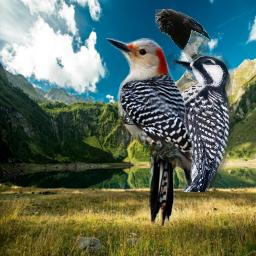Crow: (155, 9, 210, 76)
Woodpecker: (106, 38, 194, 226), (156, 51, 234, 192)
